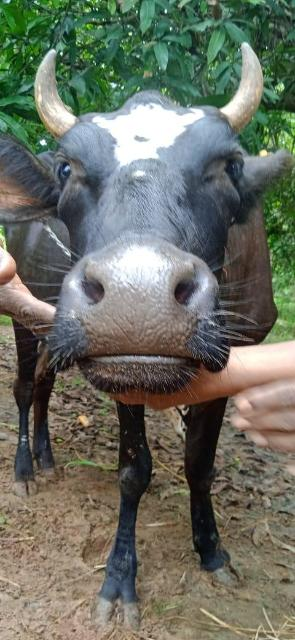Muzzle: (92, 250, 192, 348)
